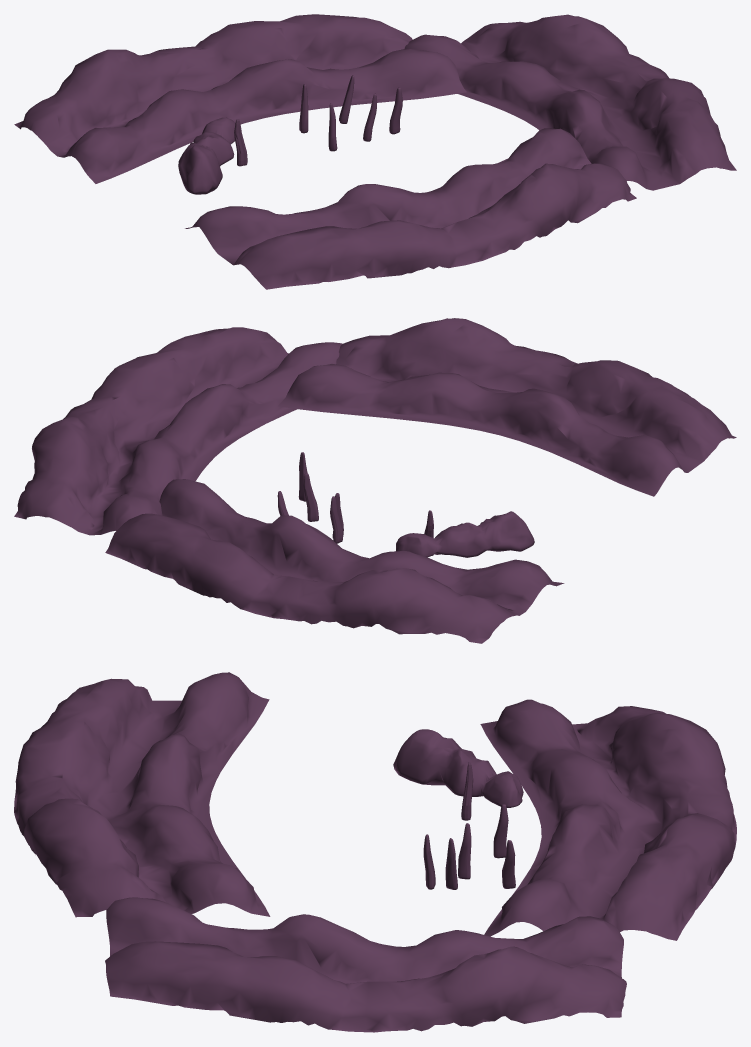
The model's file is background.fbx.
3 views of the same model, one above another, from view 1: azimuth 30°, elevation 25°; view 2: azimuth 150°, elevation 25°; view 3: azimuth 270°, elevation 25° (orthographic). The views are drawn at different scales.
Visible parts, largest first — view 1: Background; view 2: Background; view 3: Background.
Part boxes in pixels (x1,y1,x2,y2): Background: (14,14,736,289); Background: (14,318,736,643); Background: (14,672,736,1032).
Size of the model in its own units: 43673 by 6717 by 42934.
